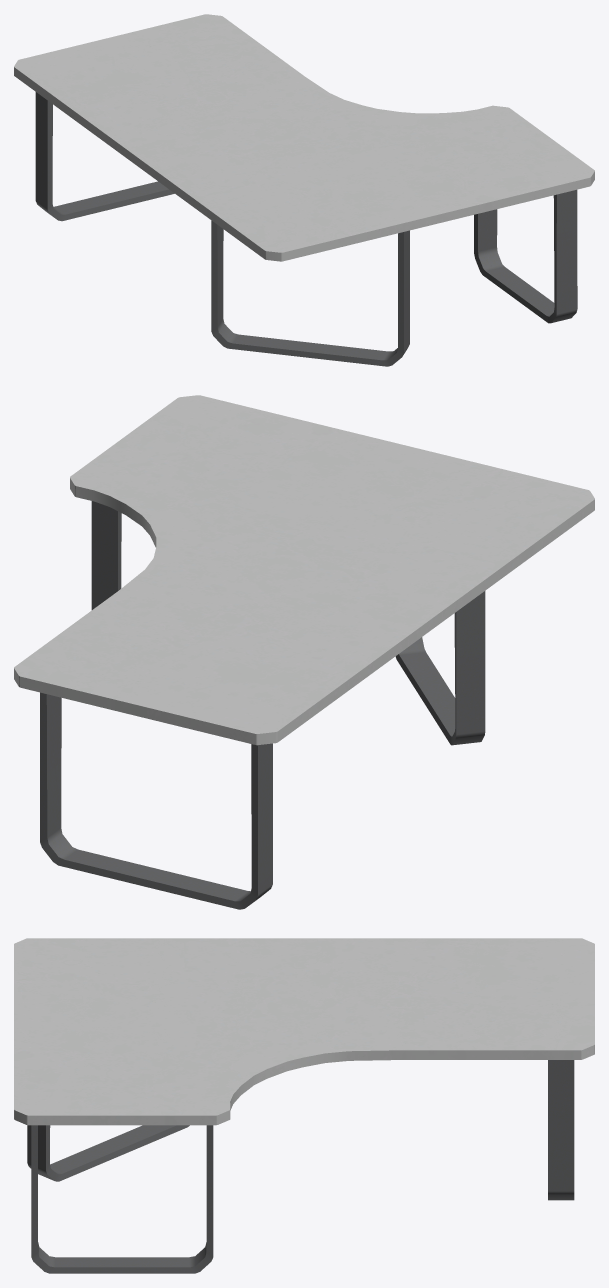
Rendered from SM_desk_a_corner_asymmetric_250_200_l.fbx.
3 renders of one model, top to bottom at view 1: azimuth 30°, elevation 25°; view 2: azimuth 150°, elevation 25°; view 3: azimuth 270°, elevation 25°, orthographic. The views are drawn at different scales.
Visible parts, largest first — view 1: polySurface708, polySurface709; view 2: polySurface708, polySurface709; view 3: polySurface708, polySurface709.
Boxes of the visible parts, x1,y1,x2,y2 form: polySurface708: (14, 14, 594, 261); polySurface709: (35, 92, 577, 366); polySurface708: (14, 395, 594, 745); polySurface709: (40, 501, 485, 909); polySurface708: (14, 938, 594, 1125); polySurface709: (27, 1060, 574, 1273).
Size of the model in its own units: 1.71 by 0.75 by 2.37.
